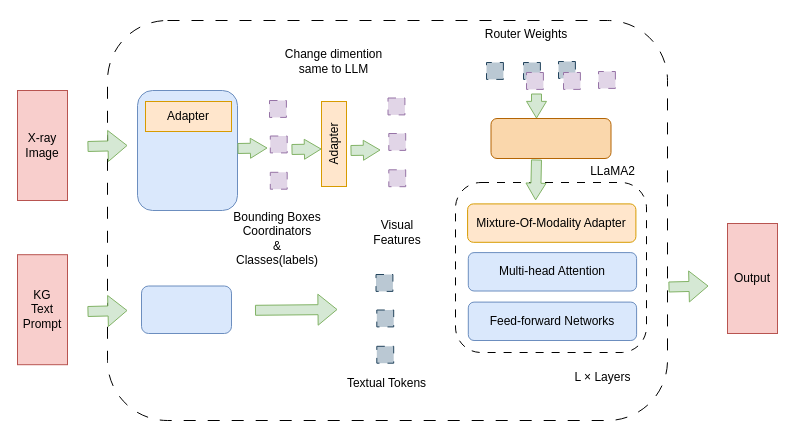
Image size: 795x438. Some labels were removed from this diagram. The shapes that lost their labels are listed below. From the top down, each one's box as (x1, y1, x2, y2) in pixels, then its label:
(136, 90, 238, 210): Faster R-CNN
(490, 118, 611, 158): Adapter_Router
(140, 285, 232, 334): Tokenzier
